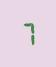seven: (19, 20, 35, 46)
